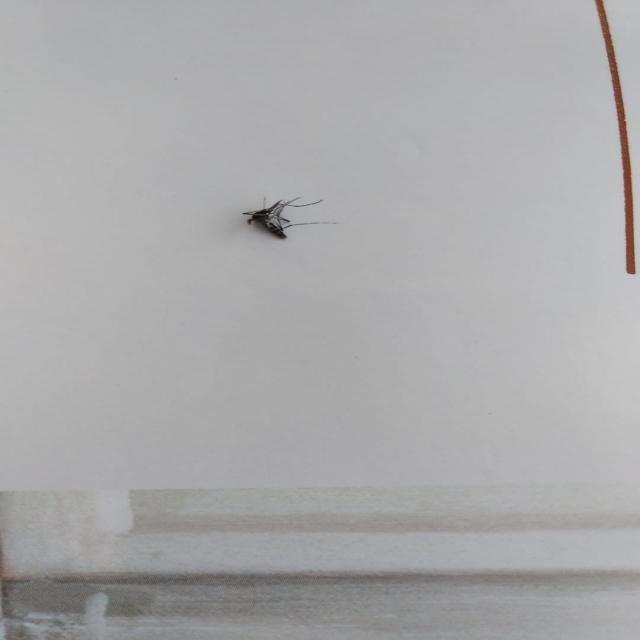albopictus: (231, 190, 337, 241)
